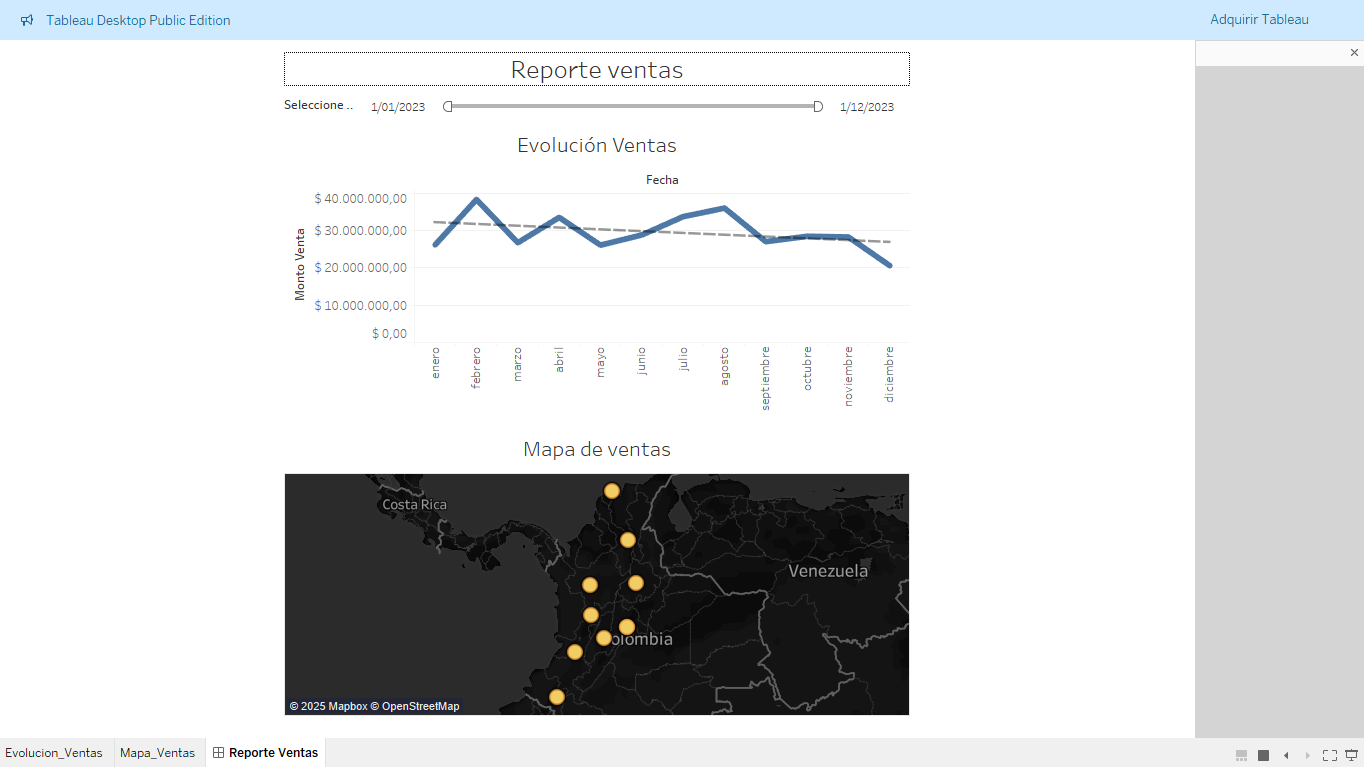

What the dashboard file says about the page in this screenshot:
{"tool":"tableau","page":{"name":"Reporte Ventas","canvas":[650,860],"ordinal":0},"visuals":[{"type":"title","box":[8,12.3,634,64.5]},{"type":"filter","title":"Mapa_Ventas","param":"[federated.0nchk6j0537b6h14qn2ll0o167is].[none:fecha:qk]","box":[8,76.8,634,49.1]},{"type":"worksheet","title":"Evolucion_Ventas","mark":"Automatic","rows":["monto_venta"],"cols":["fecha"],"box":[8,125.9,634,360.6]},{"type":"worksheet","title":"Mapa_Ventas","mark":"Automatic","box":[8,486.5,634,361.2]}]}

Visuals, with their boxes on the page's 650x860 design canvas (x1, y1, x2, y2). These are canvas units, not pixel positions in the 1364x767 screenshot, which may show the page scaled, cropped or inside an application window:
title: bbox(8, 12, 642, 77)
"Mapa_Ventas" filter: bbox(8, 77, 642, 126)
"Evolucion_Ventas" worksheet: bbox(8, 126, 642, 486)
"Mapa_Ventas" worksheet: bbox(8, 486, 642, 848)
